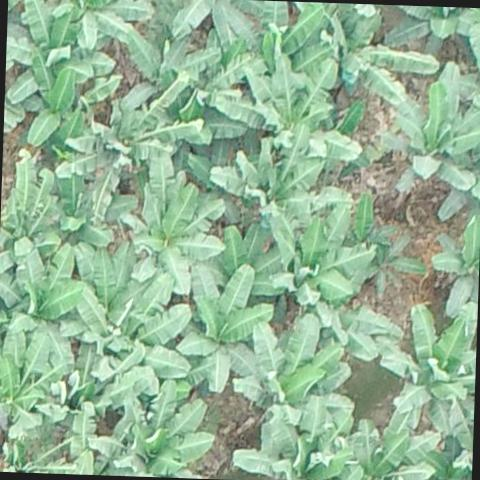Banana-plant: (57, 69, 205, 195), (216, 55, 363, 164), (123, 149, 228, 292), (74, 272, 192, 390), (209, 137, 352, 230), (176, 262, 274, 394), (385, 61, 480, 197), (381, 298, 478, 430), (317, 4, 440, 106), (237, 312, 356, 415), (93, 377, 213, 479), (231, 392, 363, 480), (4, 0, 116, 103), (270, 221, 378, 319), (0, 239, 80, 369), (217, 0, 332, 75), (122, 30, 221, 115), (52, 154, 140, 248), (0, 329, 70, 440), (352, 405, 443, 480), (0, 150, 58, 267), (430, 208, 480, 319), (385, 5, 480, 62), (47, 0, 152, 49), (220, 225, 283, 302)
